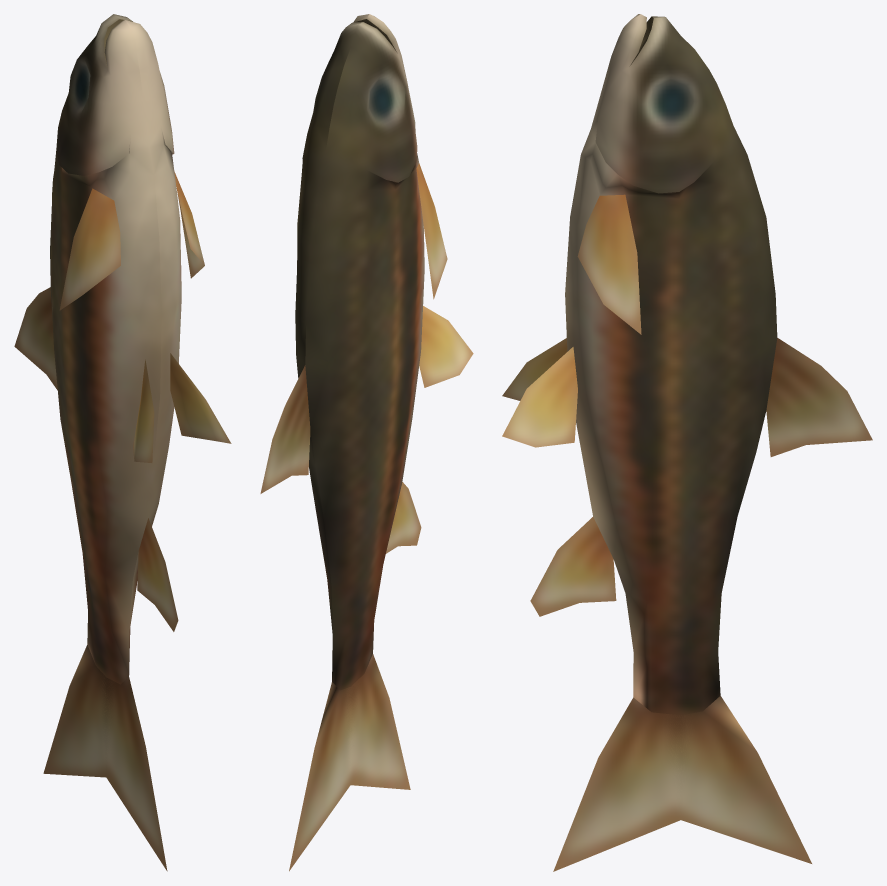
Rendered from dace.glb.
The picture shows the model from 3 angles, left to right: view 1: azimuth 30°, elevation 25°; view 2: azimuth 150°, elevation 25°; view 3: azimuth 270°, elevation 25°; orthographic projection. The views are drawn at different scales.
Visible parts, largest first — view 1: FishUgui_node5; view 2: FishUgui_node5; view 3: FishUgui_node5.
Boxes of the visible parts, left/top/right/bottom form: FishUgui_node5: left=14, top=14, right=231, bottom=871; FishUgui_node5: left=260, top=14, right=473, bottom=871; FishUgui_node5: left=502, top=14, right=872, bottom=871.
Size of the model in its own units: 0.1062 by 0.6341 by 0.2485.
Materials: 1 (1 with a texture image).
